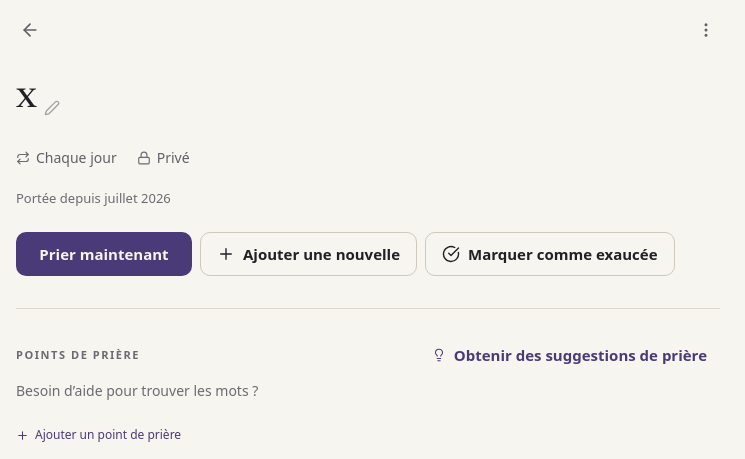
Test: sharing a running plan › keeps an ordinary prayer exactly as it was
Step 1. Click the button named "Options" → {"x": 706, "y": 30}, box [684,8,728,52]
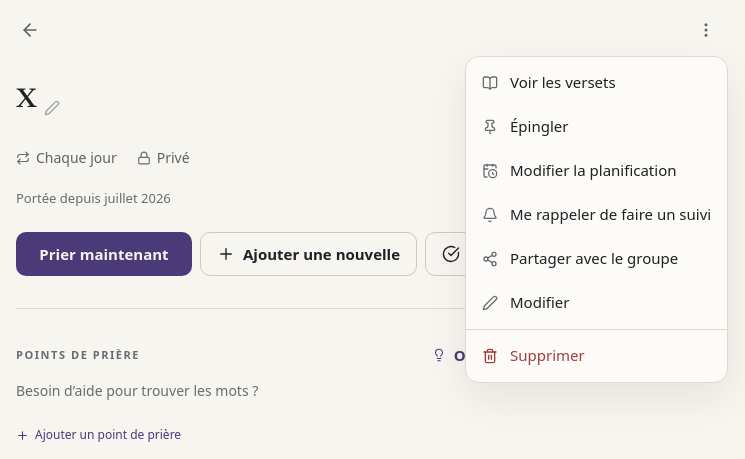
Now the menu item "Partager avec le groupe" is shown, box [466,237,727,281]
